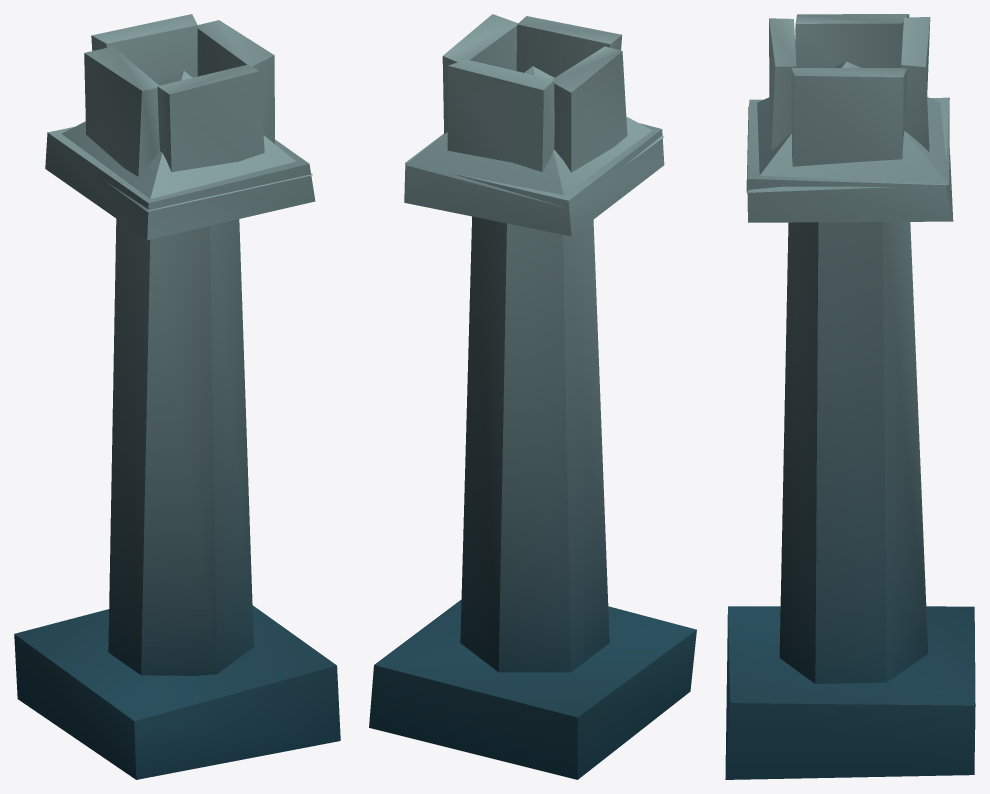
File: ruin_lantern_stele.glb
3 views of the same model, side by side, from view 1: azimuth 30°, elevation 25°; view 2: azimuth 150°, elevation 25°; view 3: azimuth 270°, elevation 25° (orthographic). The views are drawn at different scales.
Visible parts, largest first — view 1: ruin_lantern_stele_stone; view 2: ruin_lantern_stele_stone; view 3: ruin_lantern_stele_stone.
Part boxes in pixels (x1,y1,x2,y2): ruin_lantern_stele_stone: (14, 14, 340, 779); ruin_lantern_stele_stone: (369, 14, 696, 779); ruin_lantern_stele_stone: (725, 14, 975, 779).
Bounding box in the file's own units: 1.13 × 3.45 × 1.14.
